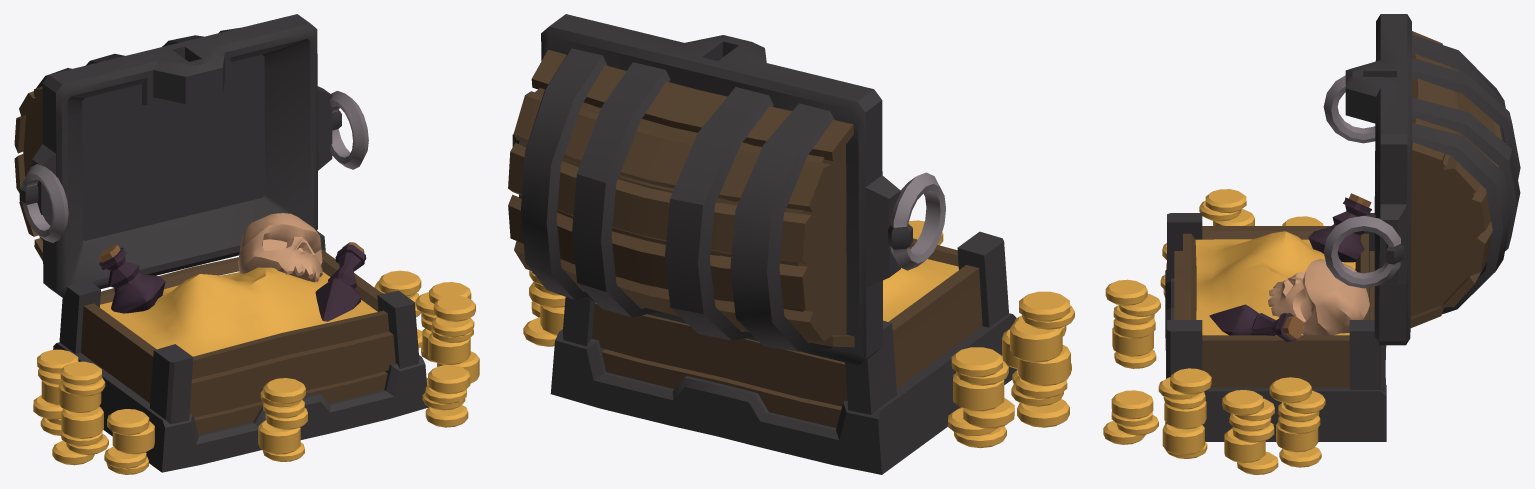
Rendered from harbour-chest.glb.
3 views of the same model, side by side, from view 1: azimuth 30°, elevation 25°; view 2: azimuth 150°, elevation 25°; view 3: azimuth 270°, elevation 25° (orthographic). The views are drawn at different scales.
Parts seen in each view (by area): view 1: Prop_Chest_Gold; view 2: Prop_Chest_Gold; view 3: Prop_Chest_Gold.
Part boxes in pixels (<box>): Prop_Chest_Gold: <box>14,14,479,474</box>; Prop_Chest_Gold: <box>508,14,1074,474</box>; Prop_Chest_Gold: <box>1103,14,1520,474</box>.
Bounding box in the file's own units: 1.82 × 1.29 × 1.59.
1 material, 1 textured.
